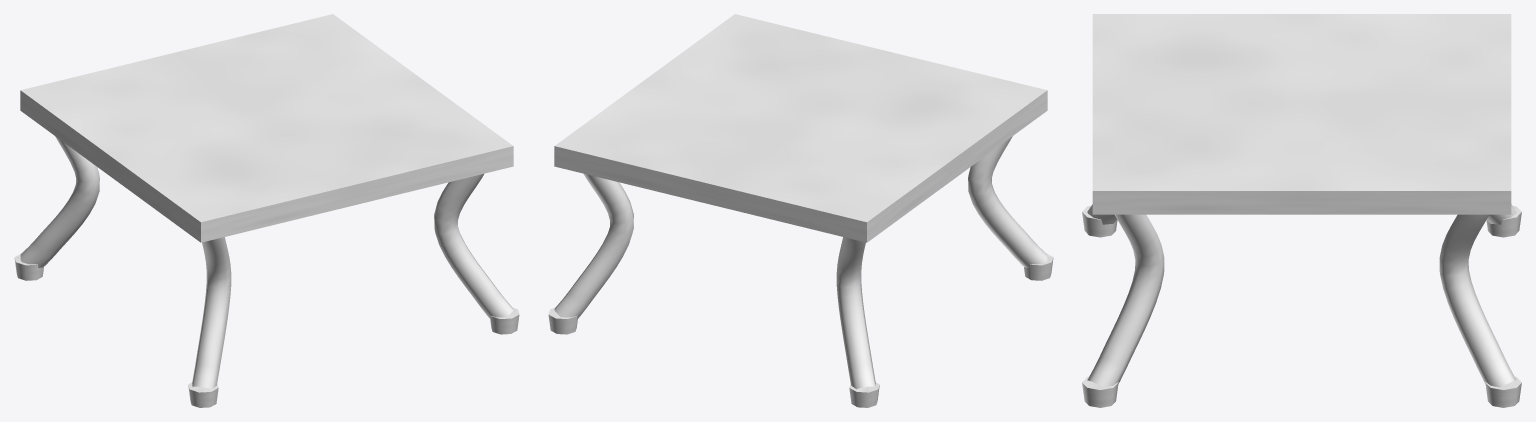
The model's file is low-square-black.glb.
3 views of the same model, side by side, from view 1: azimuth 30°, elevation 25°; view 2: azimuth 150°, elevation 25°; view 3: azimuth 270°, elevation 25° (orthographic). The views are drawn at different scales.
Visible parts, largest first — view 1: low-square-black; view 2: low-square-black; view 3: low-square-black.
Boxes of the visible parts, x1=… form: low-square-black: x1=14, y1=14, x2=519, y2=407; low-square-black: x1=548, y1=14, x2=1053, y2=407; low-square-black: x1=1082, y1=14, x2=1521, y2=407.
Bounding box in the file's own units: 0.84 × 0.45 × 0.84.
Materials: 1 (1 with a texture image).
